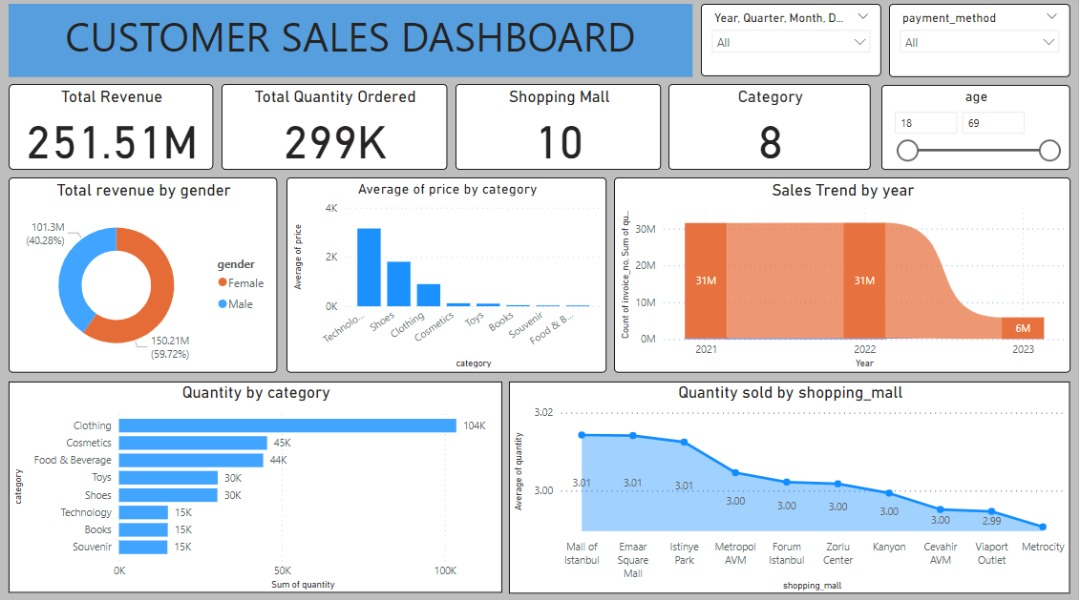

Layout of this report page (visuals, bound fields, positions):
{"tool":"powerbi","page":{"name":"Page 1","canvas":[1280,720],"ordinal":0},"visuals":[{"type":"card","title":"Total Revenue","fields":{"Values":["Sum(customer_shopping_data__TDI.Total revenue)"]},"box":[10.4,104.5,242.9,101.9],"z":0},{"type":"card","title":"Total Quantity Ordered","fields":{"Values":["Sum(customer_shopping_data__TDI.quantity)"]},"box":[262.5,104.5,267.8,101.9],"z":1},{"type":"donutChart","title":"Total revenue by gender","fields":{"Category":["customer_shopping_data__TDI.gender"],"Y":["Sum(customer_shopping_data__TDI.Total revenue)"]},"box":[10.4,215.5,318.7,232.5],"z":2},{"type":"clusteredBarChart","title":"Quantity by category","fields":{"Category":["customer_shopping_data__TDI.category"],"Y":["Sum(customer_shopping_data__TDI.quantity)"]},"box":[10.3,457.5,586,250.6],"z":3},{"type":"columnChart","fields":{"Category":["customer_shopping_data__TDI.category"],"Y":["Avg(customer_shopping_data__TDI.price)"]},"box":[339.7,215.1,380.3,232.1],"z":4},{"type":"stackedAreaChart","title":"Quantity sold by shopping_mall","fields":{"Category":["customer_shopping_data__TDI.shopping_mall"],"Y":["Avg(customer_shopping_data__TDI.quantity)"]},"box":[604.6,457.7,666.2,251.8],"z":6},{"type":"ribbonChart","title":"Sales Trend by year","fields":{"Category":["customer_shopping_data__TDI.Invoice_Date.Variation.Date Hierarchy.Year","customer_shopping_data__TDI.Invoice_Date.Variation.Date Hierarchy.Quarter","customer_shopping_data__TDI.Invoice_Date.Variation.Date Hierarchy.Month","customer_shopping_data__TDI.Invoice_Date.Variation.Date Hierarchy.Day"],"Y":["CountNonNull(customer_shopping_data__TDI.invoice_no)","Sum(customer_shopping_data__TDI.quantity)","Sum(customer_shopping_data__TDI.price)","CountNonNull(customer_shopping_data__TDI.category)"]},"box":[729.2,215.1,541.6,232.1],"z":7},{"type":"textbox","box":[10.5,9.2,811.8,86.6],"z":8},{"type":"slicer","fields":{"Values":["customer_shopping_data__TDI.payment_method"]},"box":[1055.7,9.2,215.1,86.6],"z":9},{"type":"slicer","title":"age","fields":{"Values":["customer_shopping_data__TDI.age"]},"box":[1046.6,104.9,224.3,101],"z":12},{"type":"card","title":"Shopping Mall","fields":{"Values":["Count(customer_shopping_data__TDI.shopping_mall)"]},"box":[540.7,104.5,244.2,101.9],"z":13},{"type":"card","title":"Category","fields":{"Values":["Count(customer_shopping_data__TDI.category)"]},"box":[794.1,104.5,240.3,101.9],"z":14},{"type":"slicer","fields":{"Values":["customer_shopping_data__TDI.Invoice_Date.Variation.Date Hierarchy.Year","customer_shopping_data__TDI.Invoice_Date.Variation.Date Hierarchy.Quarter","customer_shopping_data__TDI.Invoice_Date.Variation.Date Hierarchy.Month","customer_shopping_data__TDI.Invoice_Date.Variation.Date Hierarchy.Day"]},"box":[832,9.1,214.2,86.2],"z":15}]}

Visuals, with their boxes in screenshot pixels (x1, y1, x2, y2), scaled from the page's 1280x720 canvas onto the 1080x600 screenshot:
"Total Revenue" card: pyautogui.locateOnScreen(9, 87, 214, 172)
"Total Quantity Ordered" card: pyautogui.locateOnScreen(221, 87, 447, 172)
"Total revenue by gender" donutChart: pyautogui.locateOnScreen(9, 180, 278, 373)
"Quantity by category" clusteredBarChart: pyautogui.locateOnScreen(9, 381, 503, 590)
columnChart - customer_shopping_data__TDI.category x Avg(customer_shopping_data__TDI.price): pyautogui.locateOnScreen(287, 179, 608, 373)
"Quantity sold by shopping_mall" stackedAreaChart: pyautogui.locateOnScreen(510, 381, 1072, 591)
"Sales Trend by year" ribbonChart: pyautogui.locateOnScreen(615, 179, 1072, 373)
textbox: pyautogui.locateOnScreen(9, 8, 694, 80)
slicer - customer_shopping_data__TDI.payment_method: pyautogui.locateOnScreen(891, 8, 1072, 80)
"age" slicer: pyautogui.locateOnScreen(883, 87, 1072, 172)
"Shopping Mall" card: pyautogui.locateOnScreen(456, 87, 662, 172)
"Category" card: pyautogui.locateOnScreen(670, 87, 873, 172)
slicer - customer_shopping_data__TDI.Invoice_Date.Variation.Date Hierarchy.Year x customer_shopping_data__TDI.Invoice_Date.Variation.Date Hierarchy.Quarter: pyautogui.locateOnScreen(702, 8, 883, 79)
